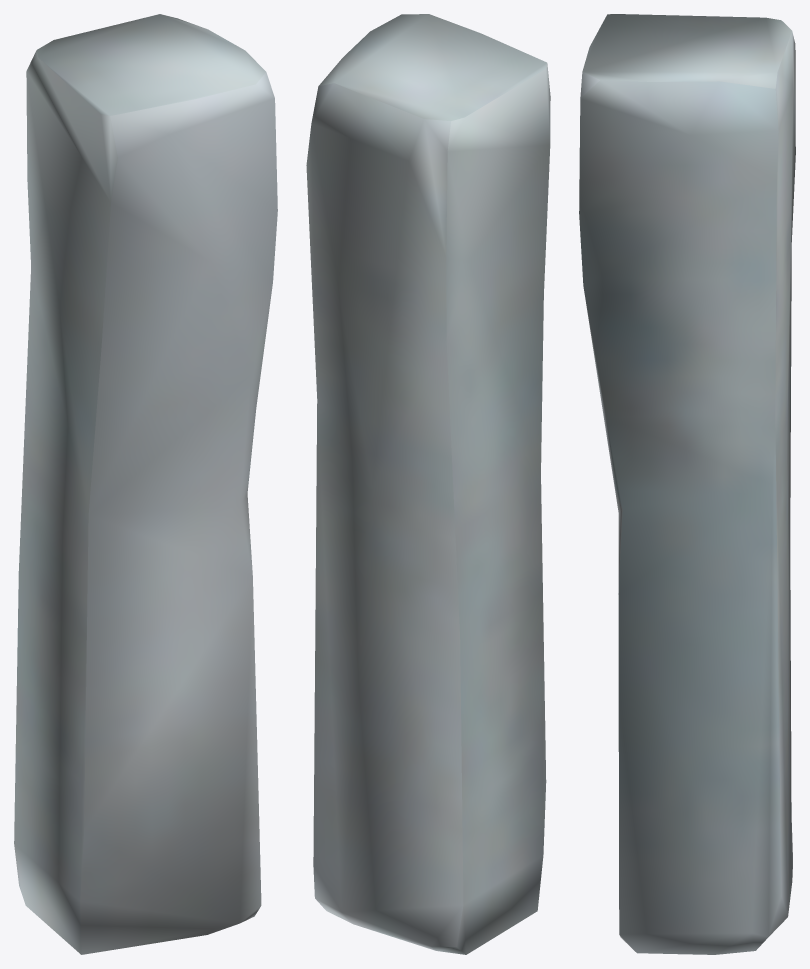
Rendered from P_CubicCliffPiece07.obj.
The picture shows the model from 3 angles, left to right: view 1: azimuth 30°, elevation 25°; view 2: azimuth 150°, elevation 25°; view 3: azimuth 270°, elevation 25°; orthographic projection. The views are drawn at different scales.
Size of the model in its own units: 4.49 by 20.83 by 4.69.
